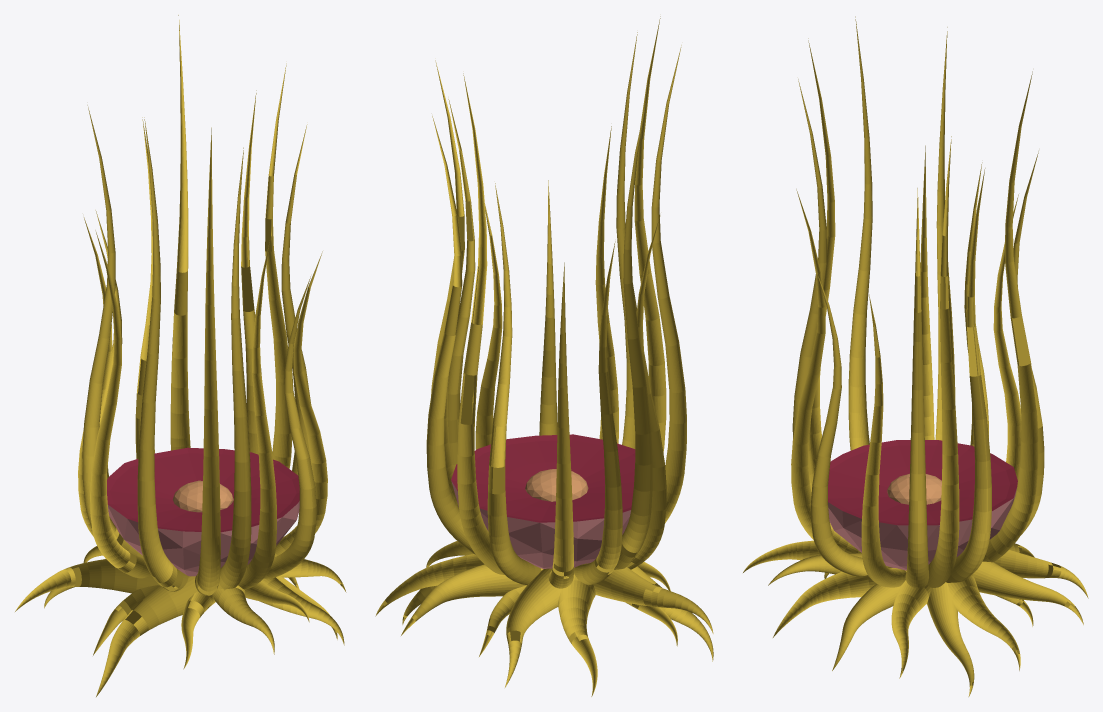
File: Flora_Slings5.fbx
The picture shows the model from 3 angles, left to right: view 1: azimuth 30°, elevation 25°; view 2: azimuth 150°, elevation 25°; view 3: azimuth 270°, elevation 25°; orthographic projection. The views are drawn at different scales.
Visible parts, largest first — view 1: Upper_Tentacles, Lower_Tentacles, Inner, Flora1, Center; view 2: Upper_Tentacles, Lower_Tentacles, Inner, Flora1, Center; view 3: Upper_Tentacles, Lower_Tentacles, Inner, Flora1, Center.
Boxes of the visible parts, x1=… form: Upper_Tentacles: x1=78, y1=15, x2=327, y2=595; Lower_Tentacles: x1=15, y1=546, x2=346, y2=696; Inner: x1=107, y1=447, x2=299, y2=532; Flora1: x1=108, y1=501, x2=299, y2=576; Center: x1=173, y1=480, x2=233, y2=512; Upper_Tentacles: x1=426, y1=16, x2=686, y2=588; Lower_Tentacles: x1=375, y1=541, x2=713, y2=696; Inner: x1=451, y1=434, x2=635, y2=522; Flora1: x1=451, y1=481, x2=630, y2=568; Center: x1=525, y1=469, x2=588, y2=501; Upper_Tentacles: x1=791, y1=16, x2=1044, y2=588; Lower_Tentacles: x1=743, y1=540, x2=1088, y2=696; Inner: x1=828, y1=440, x2=1017, y2=525; Flora1: x1=828, y1=488, x2=1016, y2=570; Center: x1=887, y1=473, x2=941, y2=504.
Bounding box in the file's own units: 262 × 484 × 256.
